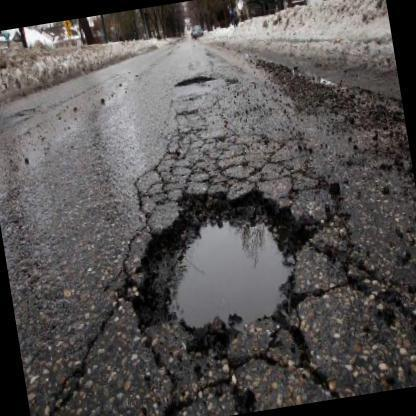pothole: (118, 175, 341, 369), (174, 75, 218, 92)
